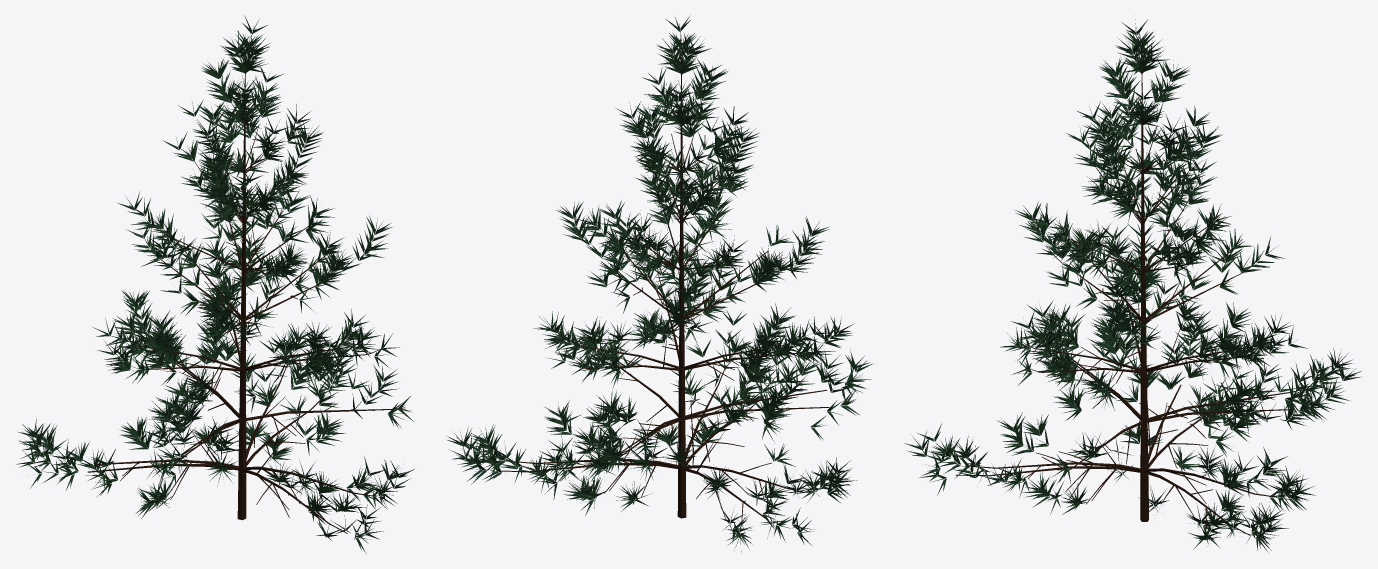
File: Pine-1.FBX
3 renders of one model, left to right at view 1: azimuth 30°, elevation 25°; view 2: azimuth 150°, elevation 25°; view 3: azimuth 270°, elevation 25°, orthographic.
Parts seen in each view (by area): view 1: PINC2_LEAF, PINC2_BRNC, PINC2_TRNK; view 2: PINC2_LEAF, PINC2_BRNC, PINC2_TRNK; view 3: PINC2_LEAF, PINC2_BRNC, PINC2_TRNK.
Boxes of the visible parts, x1,y1,x2,y2 form: PINC2_LEAF: (16, 15, 414, 552); PINC2_BRNC: (87, 26, 405, 533); PINC2_TRNK: (237, 73, 246, 520); PINC2_LEAF: (447, 15, 872, 552); PINC2_BRNC: (497, 24, 829, 523); PINC2_TRNK: (677, 74, 686, 518); PINC2_LEAF: (904, 19, 1361, 551); PINC2_BRNC: (955, 27, 1302, 535); PINC2_TRNK: (1140, 73, 1148, 521).
Bounding box in the file's own units: 112 × 144 × 119.
